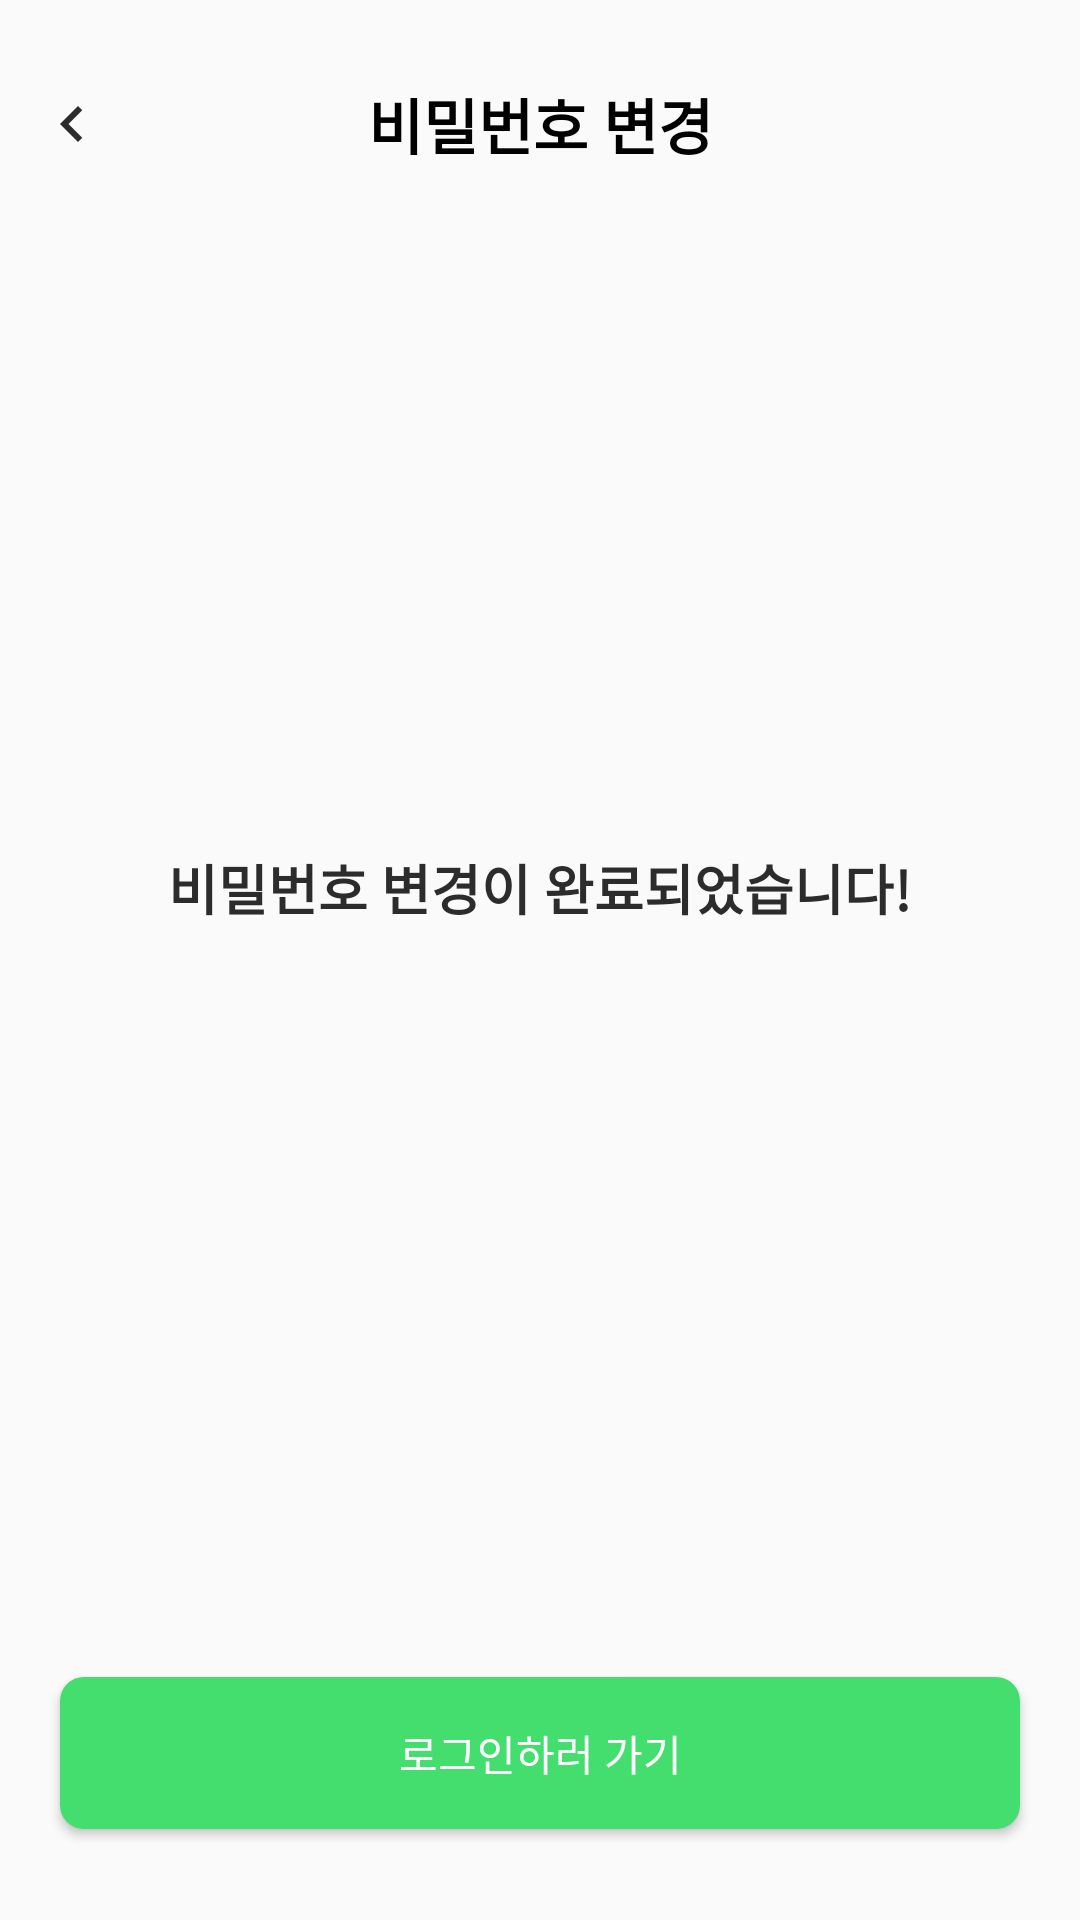

Screen size 1080 x 1920. Icon name, then its box in pixels as (x1, y1, x2, y2):
before: (60, 106, 82, 142)
